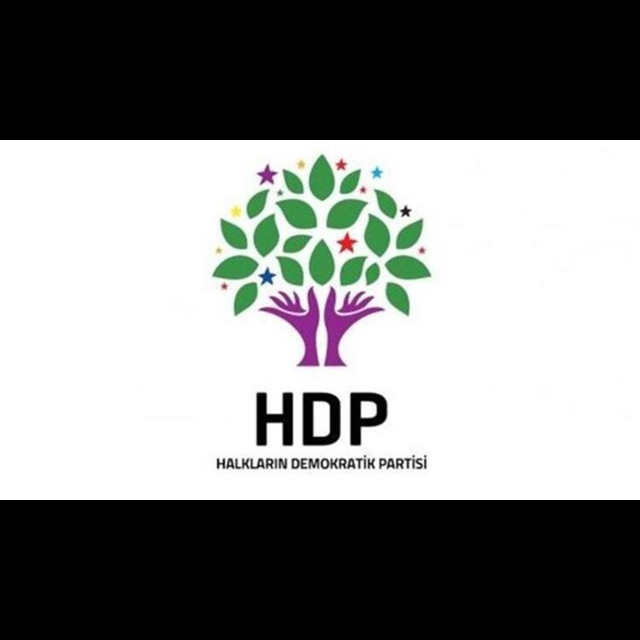HDP: (201, 148, 443, 376)
